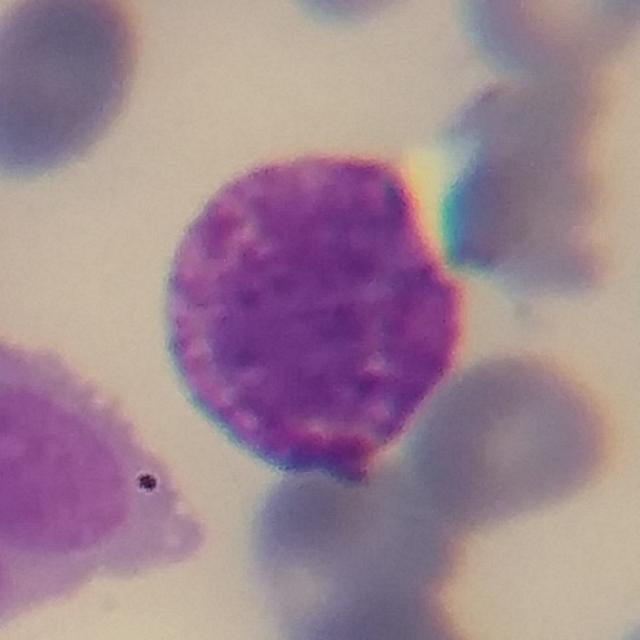baso: (160, 142, 491, 486)
